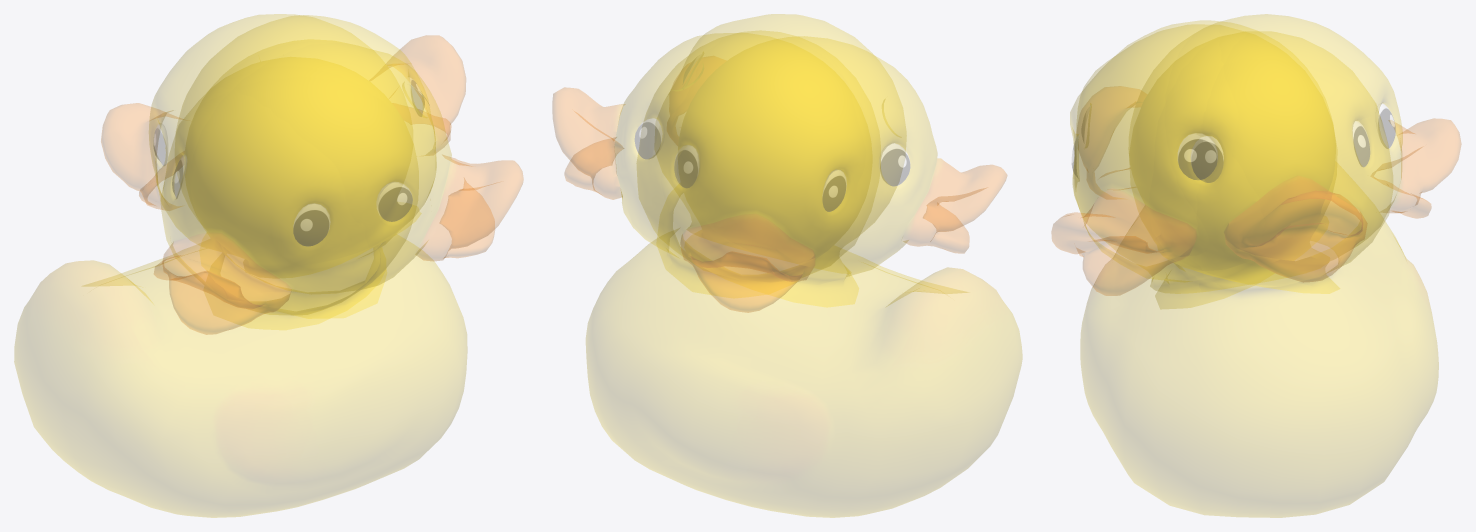
The picture shows the model from 3 angles, left to right: view 1: azimuth 30°, elevation 25°; view 2: azimuth 150°, elevation 25°; view 3: azimuth 270°, elevation 25°; orthographic projection. The views are drawn at different scales.
Visible parts, largest first — view 1: Mesh, Mesh.002, Mesh.003, Mesh.001; view 2: Mesh, Mesh.001, Mesh.003, Mesh.002; view 3: Mesh, Mesh.002, Mesh.001, Mesh.003.
Boxes of the visible parts, bbox=[...] form: Mesh: bbox=[14, 15, 467, 517]; Mesh.002: bbox=[190, 41, 523, 317]; Mesh.003: bbox=[154, 76, 418, 334]; Mesh.001: bbox=[101, 14, 420, 251]; Mesh: bbox=[552, 33, 1022, 517]; Mesh.001: bbox=[637, 31, 875, 312]; Mesh.003: bbox=[781, 36, 1006, 306]; Mesh.002: bbox=[666, 14, 906, 273]; Mesh: bbox=[1080, 32, 1438, 517]; Mesh.002: bbox=[1051, 20, 1265, 308]; Mesh.001: bbox=[1163, 14, 1461, 293]; Mesh.003: bbox=[1073, 25, 1316, 293].
Bounding box in the file's own units: 1.65 × 1.57 × 1.32.
4 materials, 4 textured.
